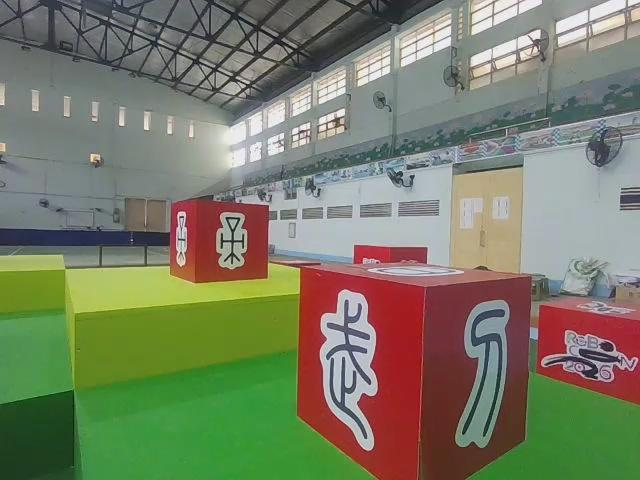R1: (539, 298, 640, 407)
R2 Fake: (298, 260, 530, 480)
R2 Real: (170, 198, 270, 284)
